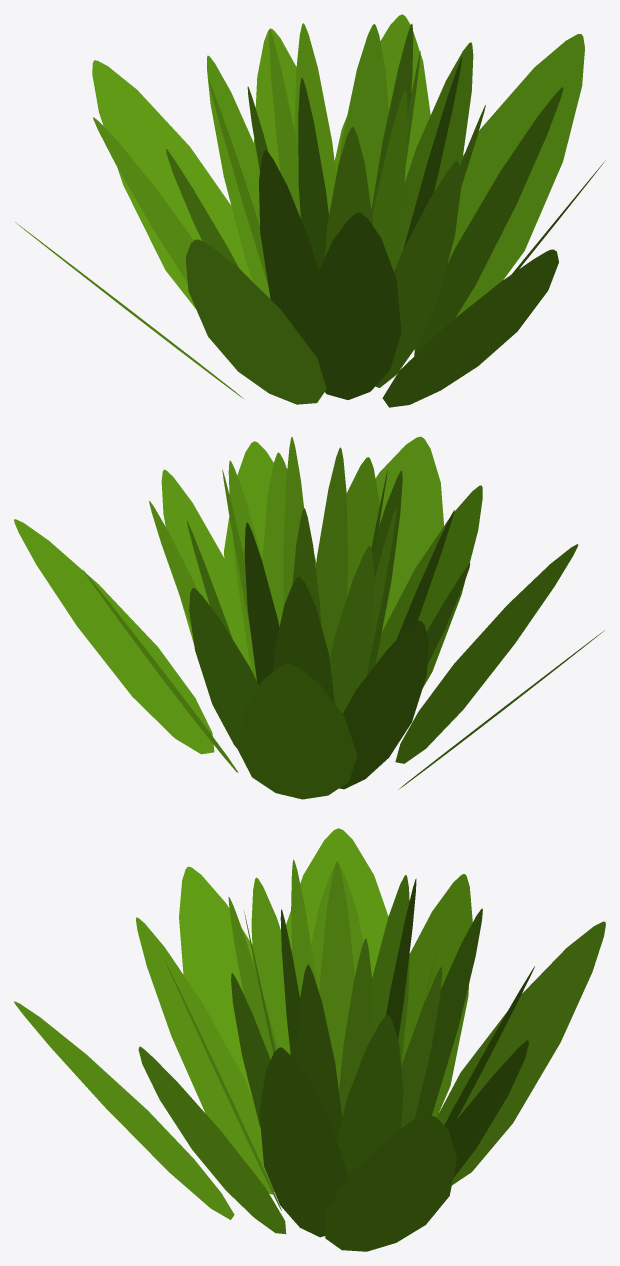
The model's file is Grass.fbx.
3 renders of one model, top to bottom at view 1: azimuth 30°, elevation 25°; view 2: azimuth 150°, elevation 25°; view 3: azimuth 270°, elevation 25°, orthographic. The views are drawn at different scales.
Parts seen in each view (by area): view 1: Circle; view 2: Circle; view 3: Circle.
Part boxes in pixels (<box>): Circle: <box>15,14,605,407</box>; Circle: <box>14,436,604,799</box>; Circle: <box>14,828,605,1251</box>.
Size of the model in its own units: 25.21 by 12.97 by 21.57.
